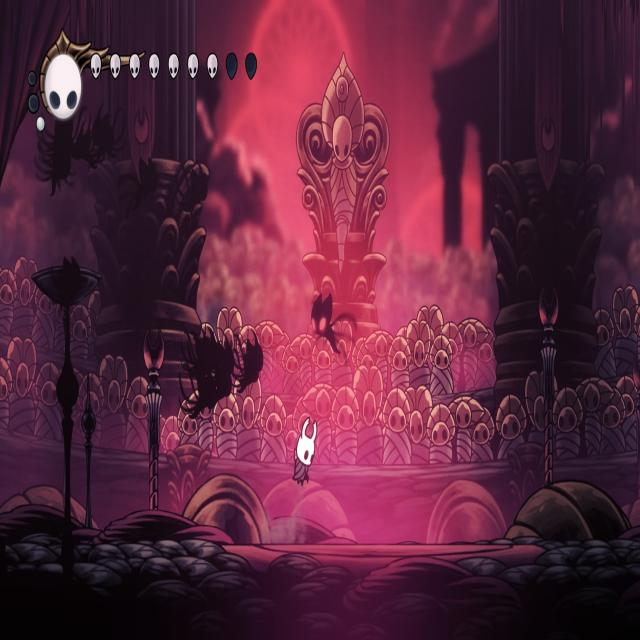Player: (289, 413, 319, 493)
Staggered_Grimm: (310, 288, 361, 366)
